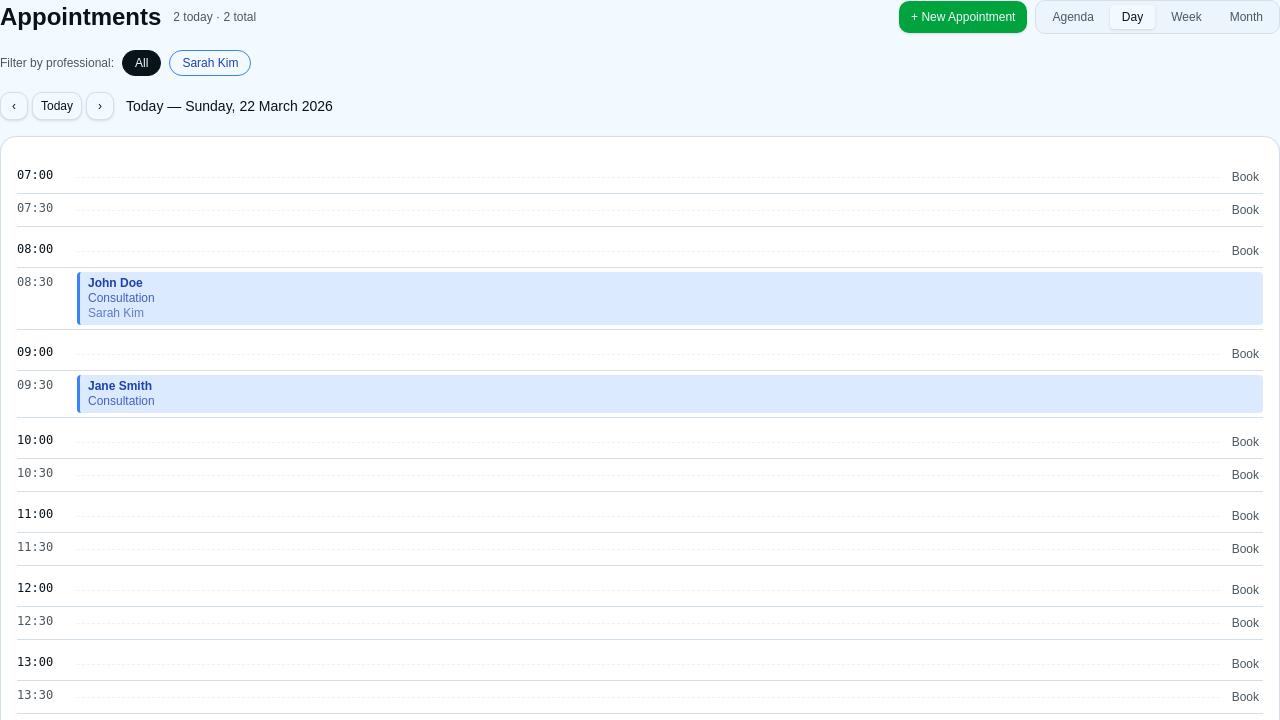
Test: AppointmentsPage (CC-61) › Secretary can click available slot to see booking form
Click the button "Book" in the row of "07:00".
click(1245, 177)  # box [1228, 169, 1263, 185]
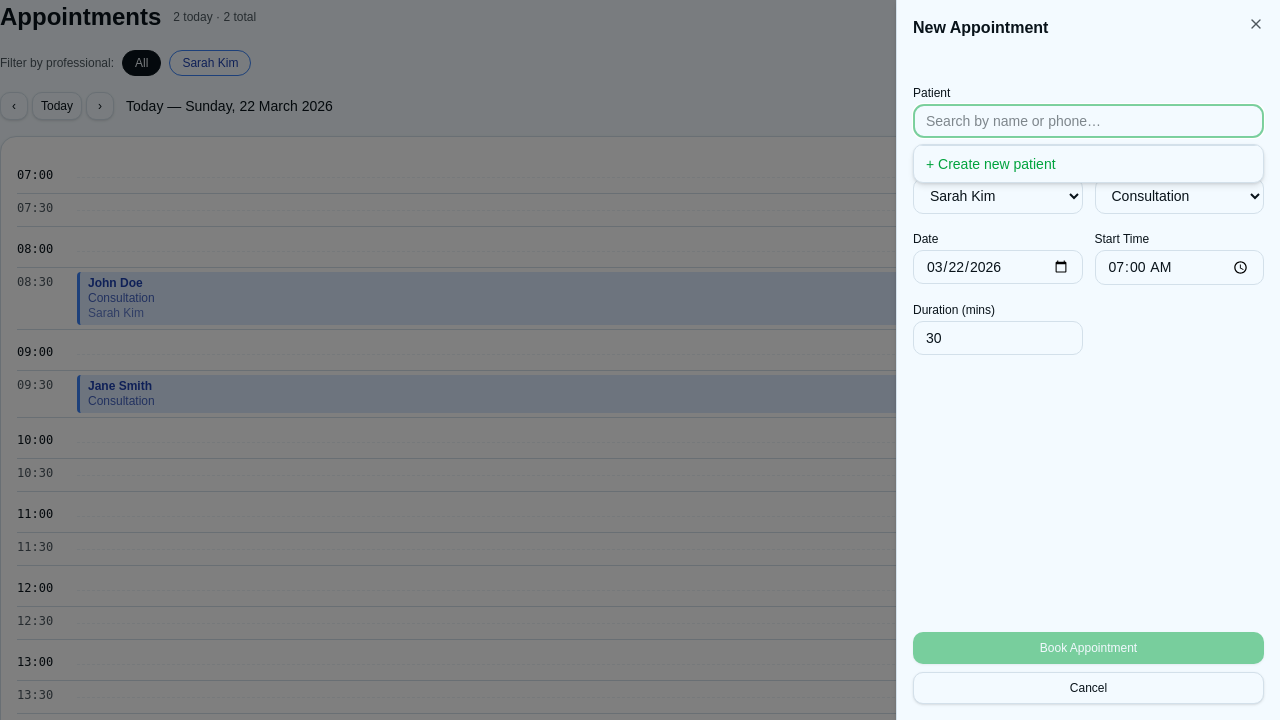
Expected: the field with placeholder "Search by name or phone…" is shown, [913, 104, 1264, 138]
